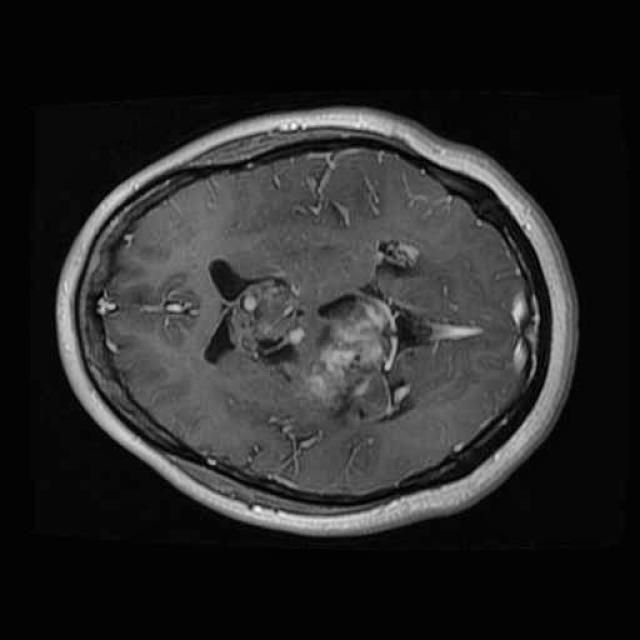Non-Tumor: (271, 276, 410, 429)
